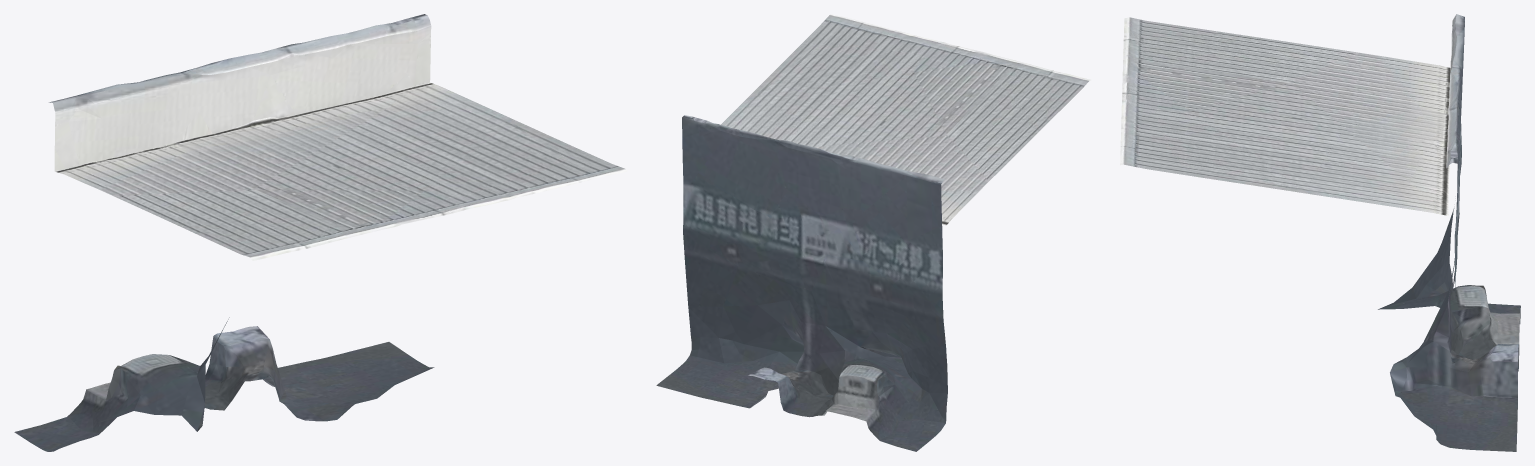
File: Tile_+005_+003_L21_0uuuu301.glb
The picture shows the model from 3 angles, left to right: view 1: azimuth 30°, elevation 25°; view 2: azimuth 150°, elevation 25°; view 3: azimuth 270°, elevation 25°; orthographic projection. The views are drawn at different scales.
Visible parts, largest first — view 1: rtc; view 2: rtc; view 3: rtc.
Part boxes in pixels (x1,y1,x2,y2): rtc: [14, 14, 627, 451]; rtc: [656, 14, 1090, 451]; rtc: [1120, 14, 1520, 451].
Bounding box in the file's own units: 14.05 × 12.76 × 15.89.
Materials: 1 (1 with a texture image).
